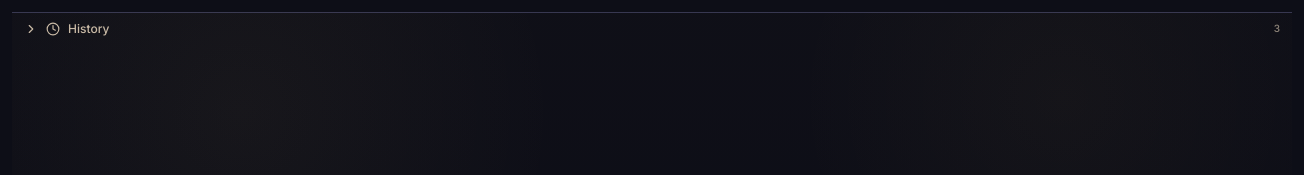
it: EntityHistoryPanel › collapses when History button is clicked again
Click the button "History 3": (89, 28) [12,13,1292,45]
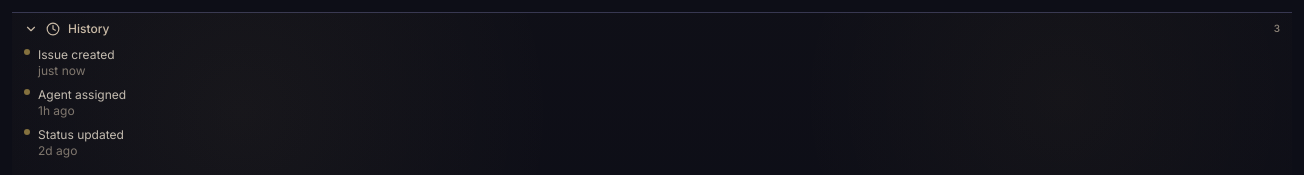
Now the text "Issue created" is shown, box [38,47,114,62]
Click the button "History 3": (89, 28) [12,13,1292,45]
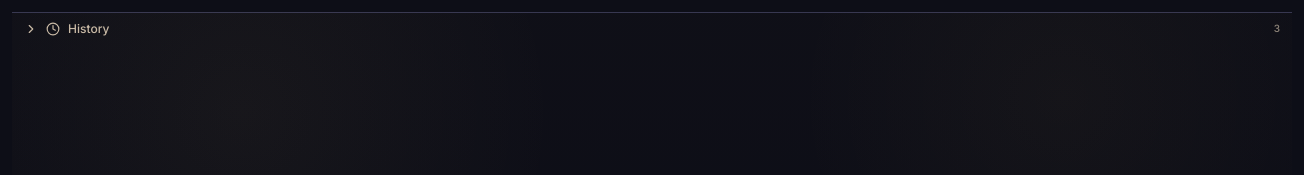
Now the text "Issue created" is gone
